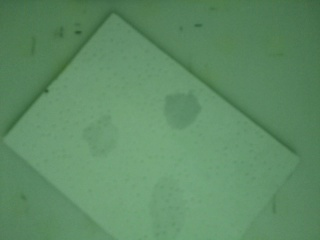Water_detected: (82, 126, 115, 159), (154, 187, 183, 215), (173, 98, 197, 126)
